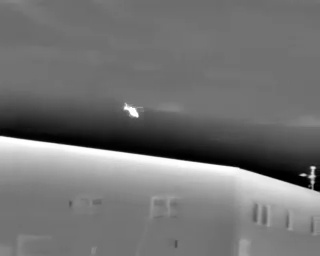HELICOPTER: (120, 100, 148, 124)
